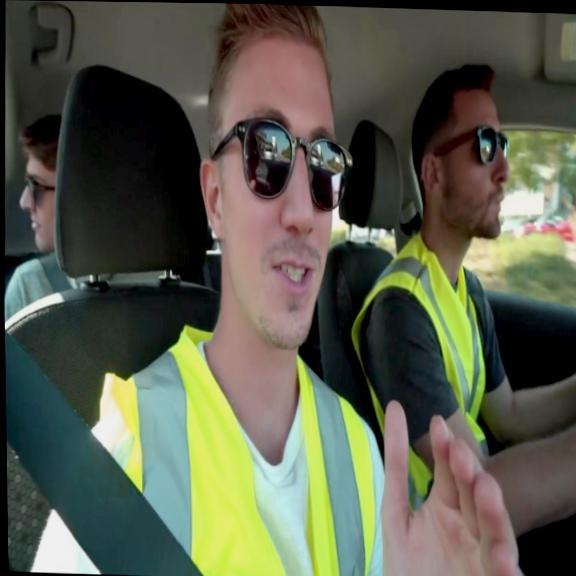safety_vest: (93, 314, 379, 576), (345, 227, 491, 512)
